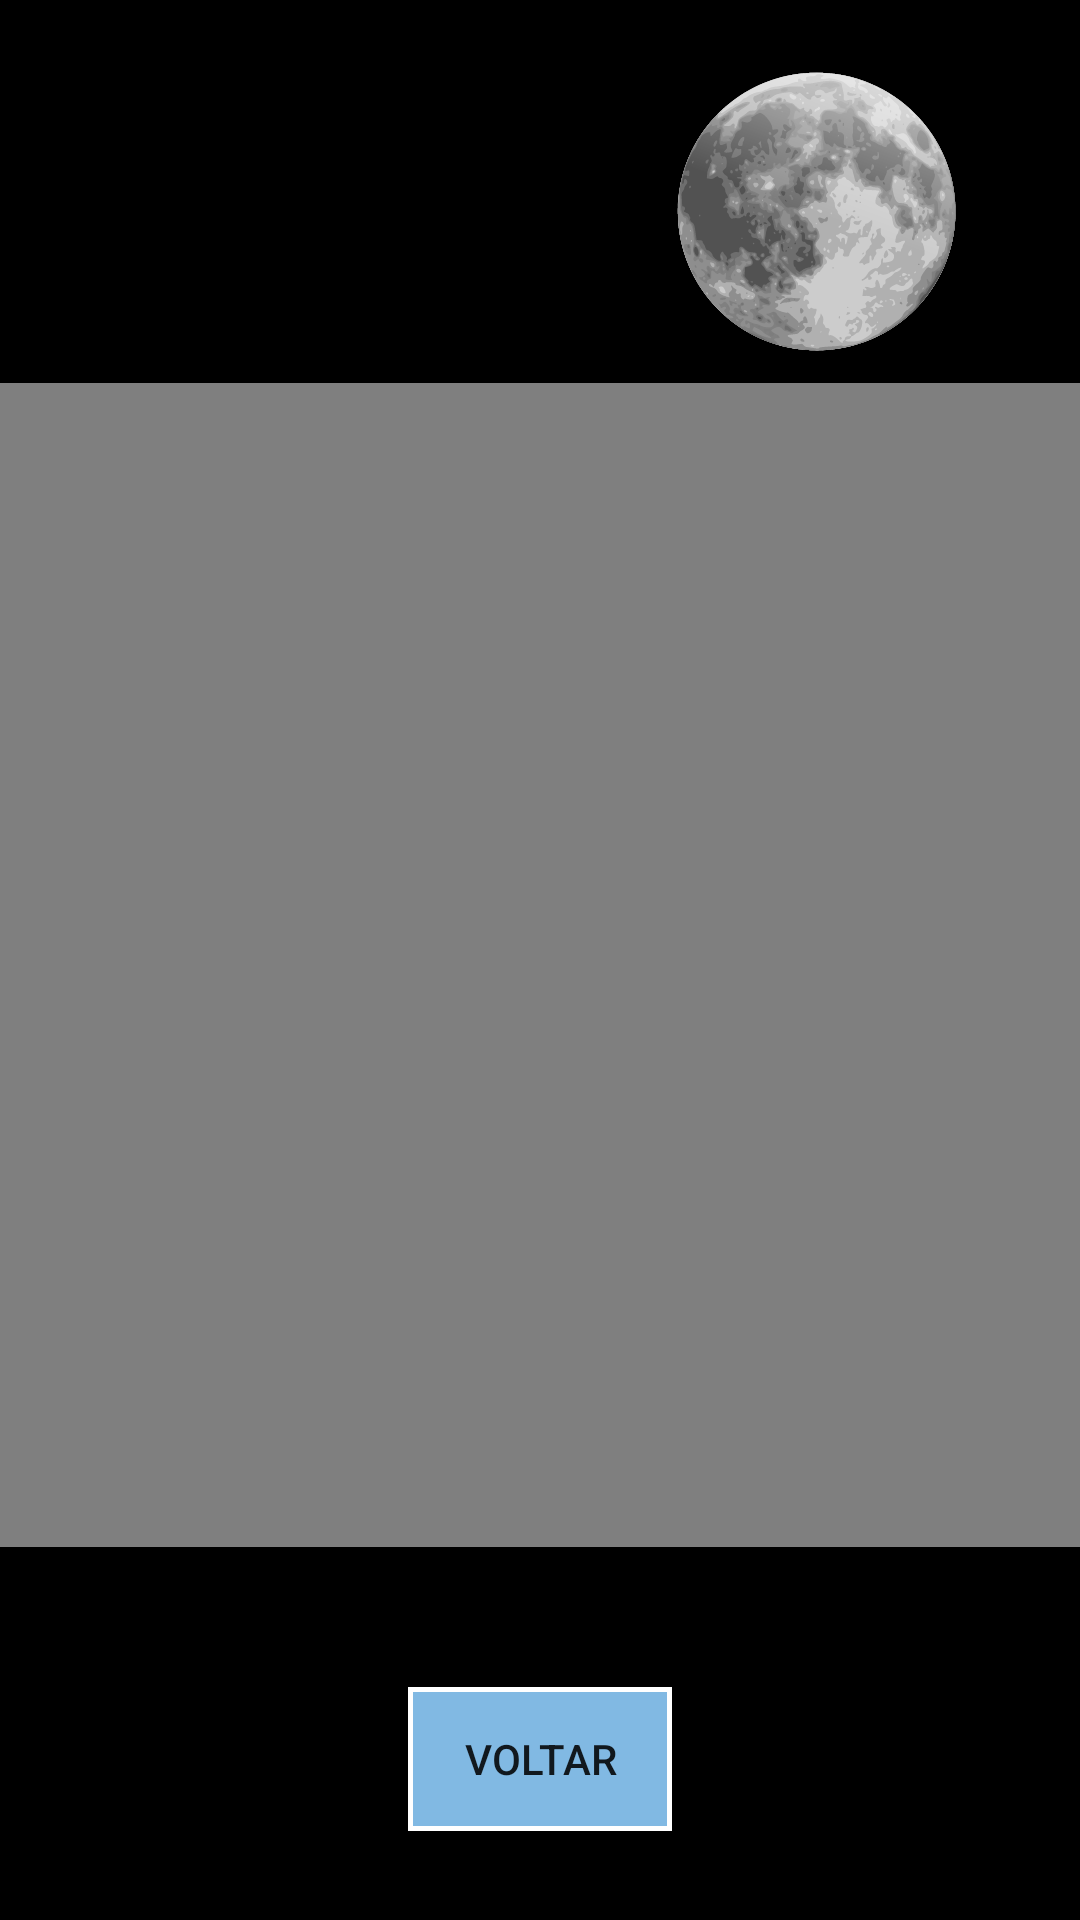

Screen size 1080×1920. Icon name, then its box in pixels as (x1, y1, x2, y2):
weather full moon: (677, 72, 956, 351)
